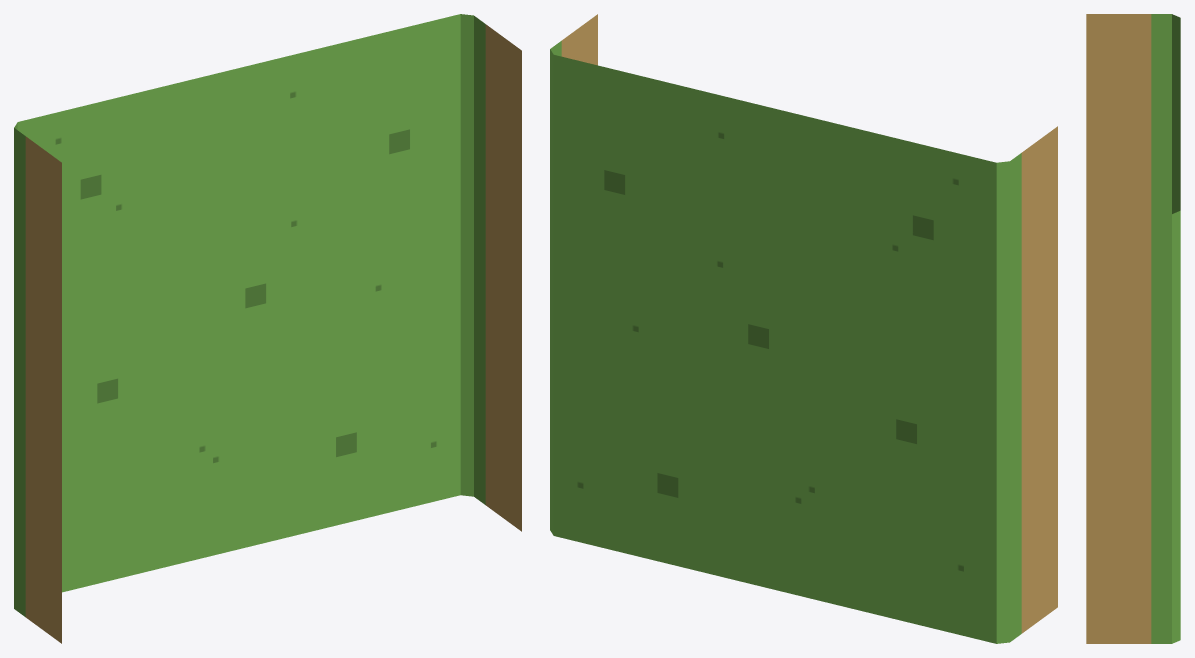
The model's file is Grass 01.FBX.
The picture shows the model from 3 angles, left to right: view 1: azimuth 30°, elevation 25°; view 2: azimuth 150°, elevation 25°; view 3: azimuth 270°, elevation 25°; orthographic projection. The views are drawn at different scales.
Parts seen in each view (by area): view 1: Grass 01; view 2: Grass 01; view 3: Grass 01.
Boxes of the visible parts, x1,y1,x2,y2 form: Grass 01: (14, 14, 521, 643); Grass 01: (550, 14, 1057, 643); Grass 01: (1086, 14, 1180, 643).
Size of the model in its own units: 200 by 200 by 39.74.
Materials: 1 (1 with a texture image).
